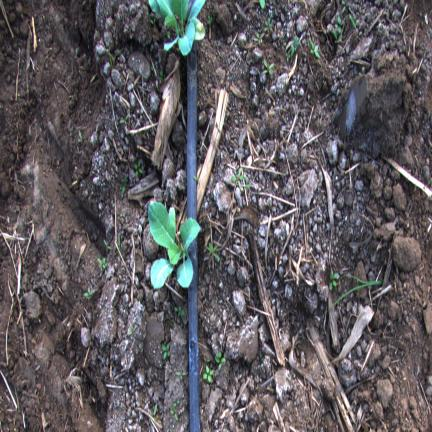crop: (148, 202, 200, 288), (149, 0, 205, 56)
